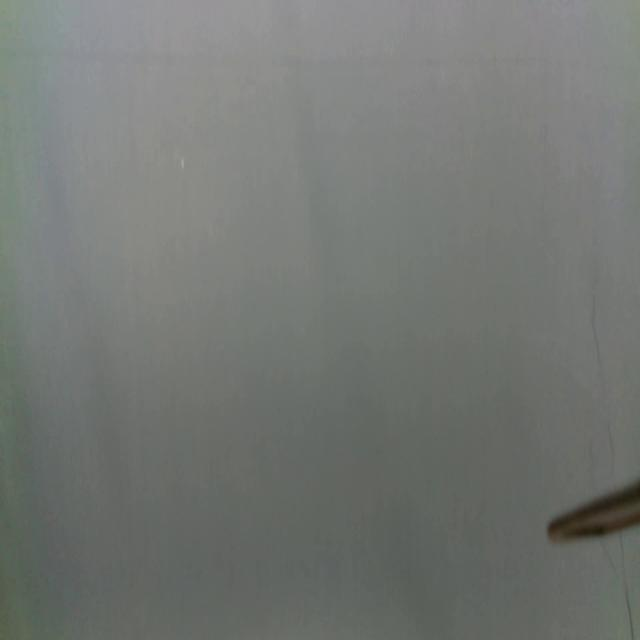color bleeding: (0, 37, 557, 97)
crease: (620, 534, 635, 640), (589, 289, 604, 370), (605, 418, 617, 495)
